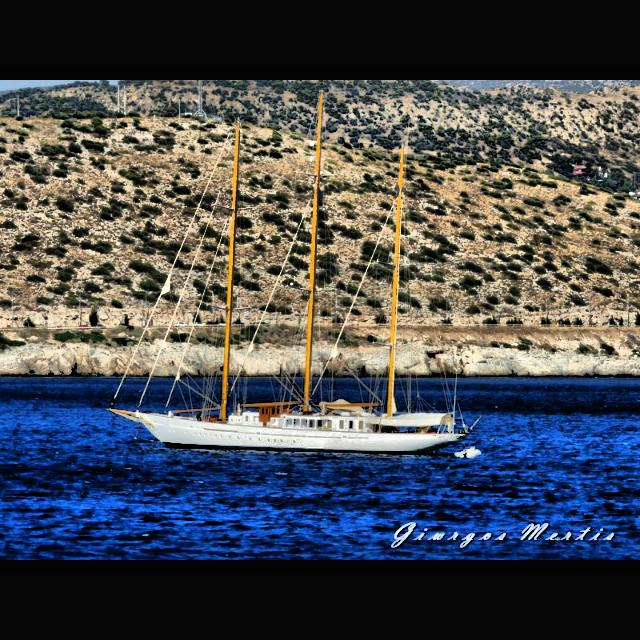sailing_vessel: (108, 89, 480, 459)
